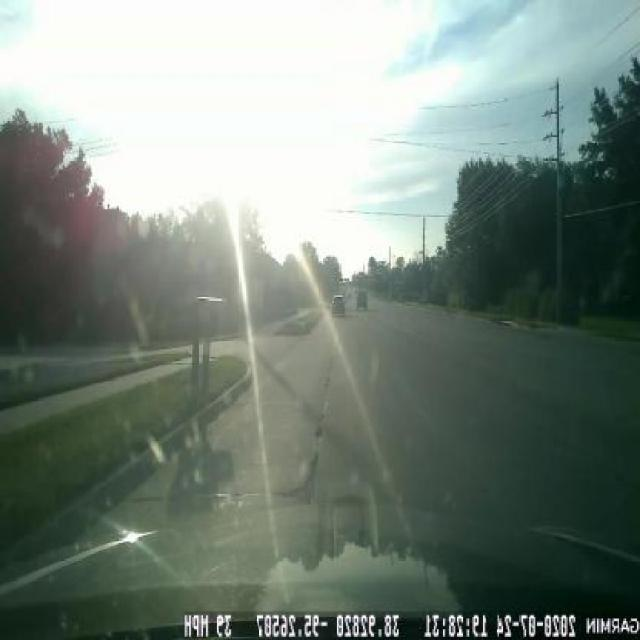pothole: (267, 452, 322, 506)
